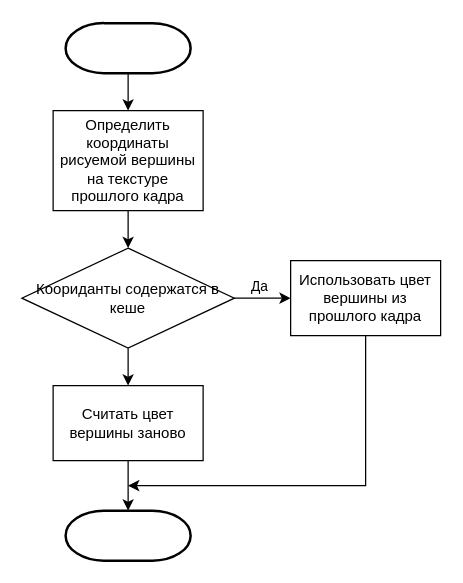
Some shapes in this 463 by 583 pixel diagram are drawn without their labels. The shapes that lost their labels are listed below. From the top down, each one's centre as x and y in pixels, then its label:
At point 127,47: "Начало".
At point 127,535: "Конец".
